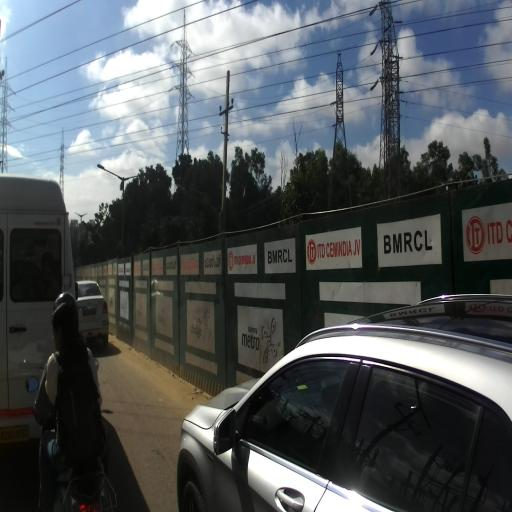street_light_0: (96, 164, 126, 186), (121, 172, 149, 188), (80, 213, 88, 219), (75, 212, 82, 218)
